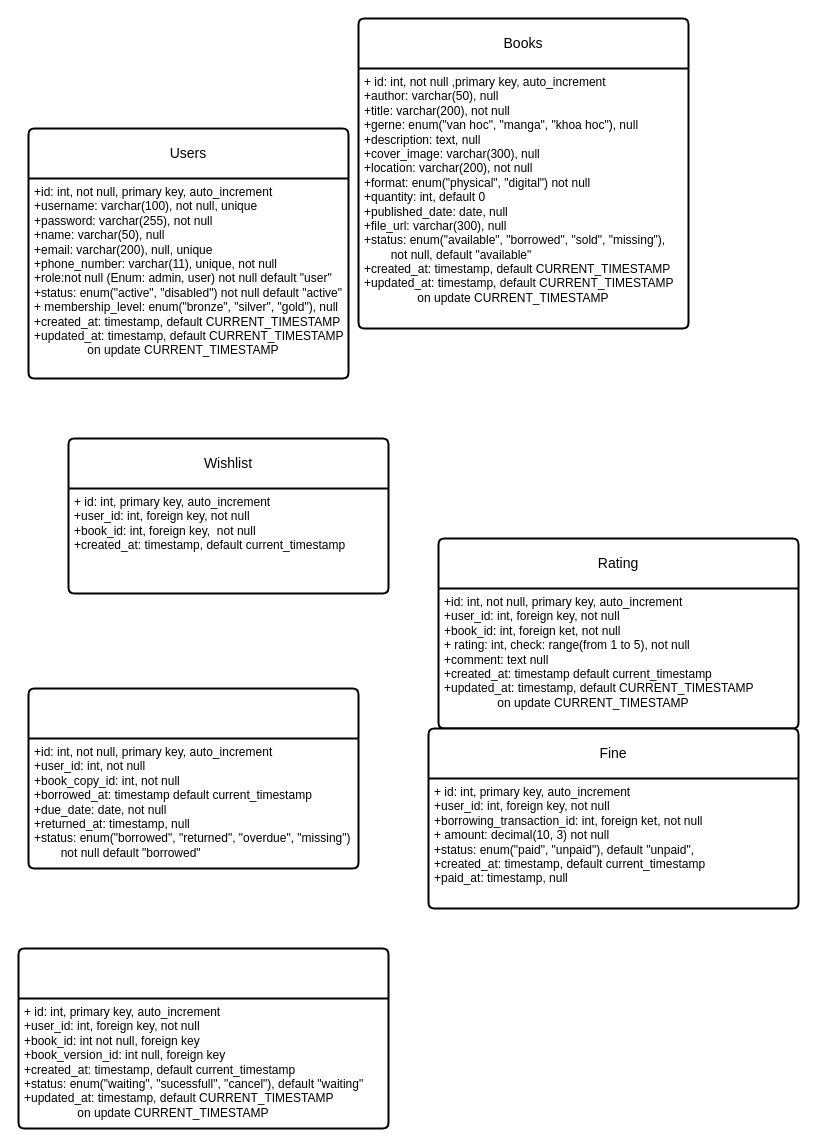
Some shapes in this 816 by 1146 pixel diagram are drawn without their labels. The box of each missing label's shape, as (x1, y1, x2, y2) in pixels:
Borrowing_transactions: (27, 687, 359, 869)
Reservation: (17, 947, 389, 1129)
